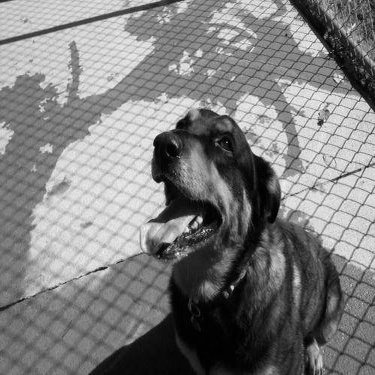dog: (72, 96, 347, 371)
